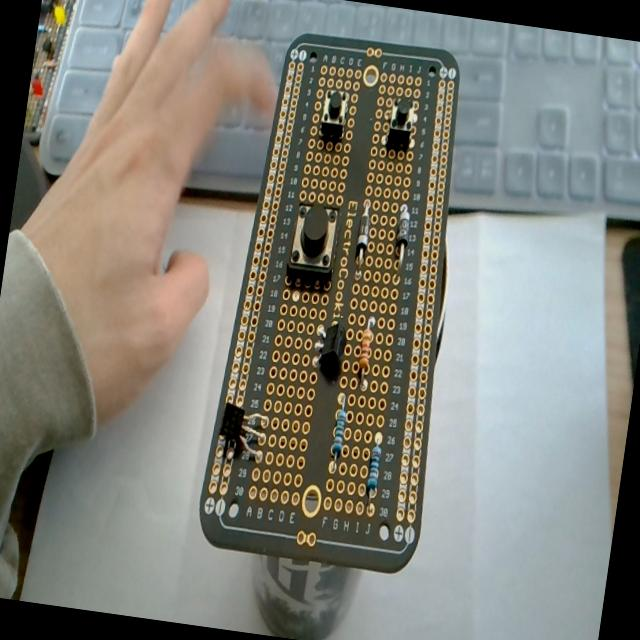diode: (352, 202, 374, 280), (392, 202, 414, 270)
resistor: (355, 316, 376, 384), (364, 437, 385, 498), (329, 406, 348, 460)
switch: (286, 198, 342, 280), (383, 96, 417, 150), (318, 88, 350, 142)
transistor: (214, 397, 268, 465), (310, 318, 350, 372)
